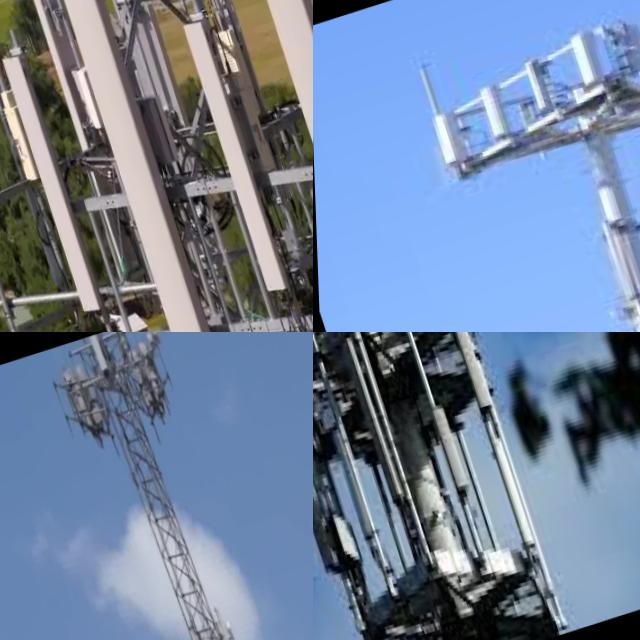GSM Antenna: (51, 0, 227, 332), (10, 0, 153, 296), (173, 10, 294, 309), (0, 29, 114, 332), (82, 0, 209, 213), (240, 0, 313, 332), (334, 335, 416, 518), (263, 0, 313, 202), (424, 402, 469, 501), (411, 94, 464, 170), (463, 77, 515, 146), (562, 27, 609, 95), (514, 52, 557, 116)
Microwave Antenna: (217, 617, 236, 640)
